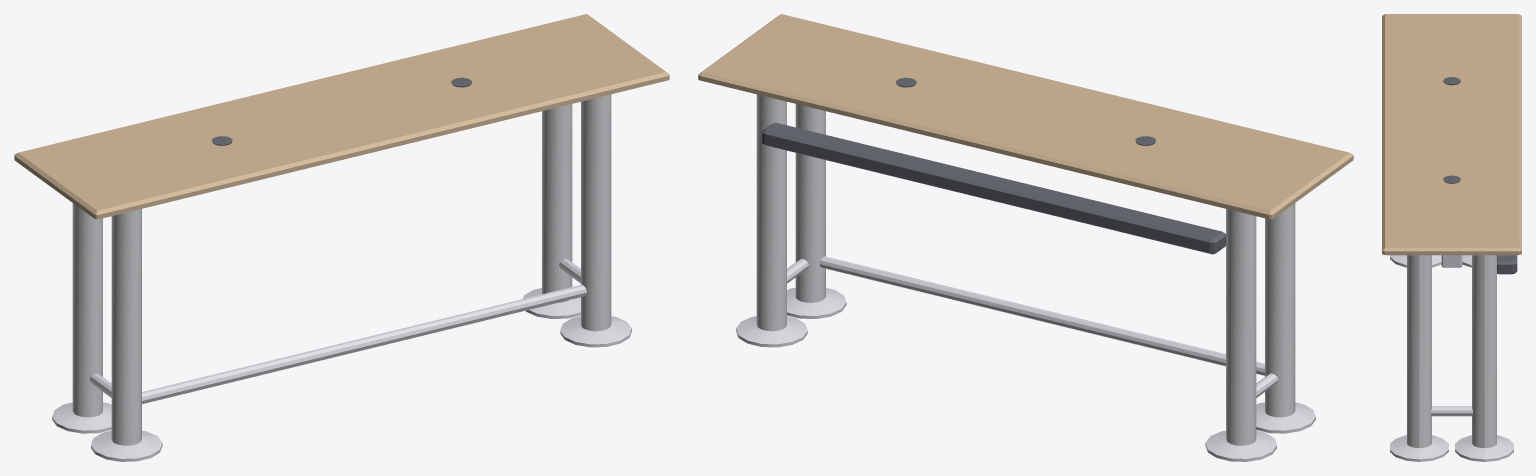
The model's file is downtown-office-interiors-touchdown-bar-fb7e8093__16974.glb.
3 renders of one model, left to right at view 1: azimuth 30°, elevation 25°; view 2: azimuth 150°, elevation 25°; view 3: azimuth 270°, elevation 25°, orthographic. The views are drawn at different scales.
Visible parts, largest first — view 1: touchdown-bar; view 2: touchdown-bar; view 3: touchdown-bar.
Boxes of the visible parts, x1=… form: touchdown-bar: x1=14, y1=14, x2=669, y2=461; touchdown-bar: x1=698, y1=14, x2=1353, y2=461; touchdown-bar: x1=1382, y1=14, x2=1521, y2=461.
Bounding box in the file's own units: 2.4 × 1.06 × 0.6001.
